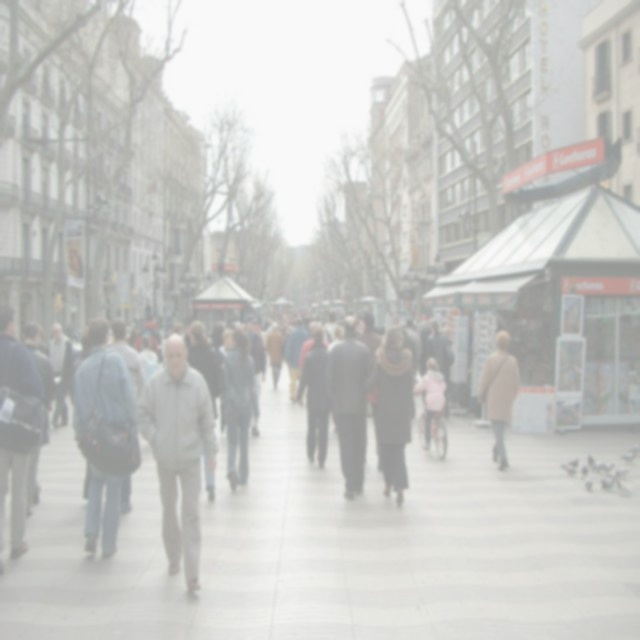pessoa: (134, 331, 222, 596), (70, 314, 144, 560), (0, 302, 52, 574), (361, 322, 417, 508), (324, 313, 377, 502), (106, 316, 148, 516), (23, 320, 58, 520), (476, 328, 522, 473), (222, 326, 262, 492), (186, 319, 222, 502), (295, 326, 332, 468), (69, 324, 95, 502), (356, 310, 384, 464), (44, 320, 76, 430), (412, 356, 447, 451), (245, 314, 267, 436), (284, 316, 312, 406), (425, 320, 450, 420), (24, 324, 53, 410), (396, 321, 418, 422), (217, 327, 234, 440), (264, 320, 286, 390), (300, 322, 330, 371), (419, 317, 436, 402), (134, 312, 163, 360), (138, 332, 159, 384), (466, 363, 482, 418), (404, 318, 422, 364), (323, 308, 345, 345), (66, 240, 84, 276), (208, 318, 248, 334), (284, 324, 295, 382), (326, 325, 344, 354), (181, 320, 195, 350), (282, 306, 294, 334), (264, 319, 284, 334), (128, 322, 139, 349), (441, 324, 453, 348), (302, 314, 312, 340), (322, 307, 331, 334), (336, 308, 346, 332), (266, 308, 284, 320), (354, 318, 364, 338), (345, 308, 364, 318), (66, 320, 74, 342), (308, 310, 322, 322), (294, 308, 308, 320), (167, 322, 176, 339), (174, 321, 184, 336), (294, 302, 310, 309), (232, 313, 240, 323), (256, 326, 262, 336), (257, 312, 261, 326)
